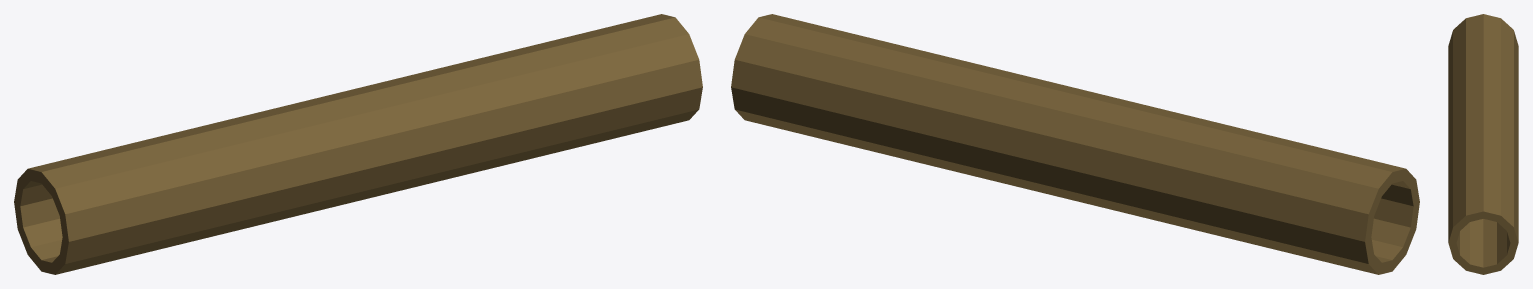
The model's file is Arma1.fbx.
3 views of the same model, side by side, from view 1: azimuth 30°, elevation 25°; view 2: azimuth 150°, elevation 25°; view 3: azimuth 270°, elevation 25° (orthographic). The views are drawn at different scales.
Visible parts, largest first — view 1: Cylinder; view 2: Cylinder; view 3: Cylinder.
Part boxes in pixels (<box>): Cylinder: <box>14,14,702,274</box>; Cylinder: <box>731,14,1419,274</box>; Cylinder: <box>1448,14,1518,274</box>.
Bounding box in the file's own units: 200 × 30 × 30.
